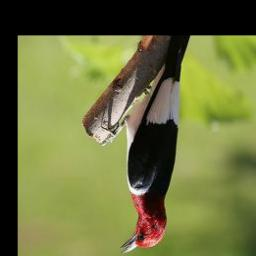Woodpecker: (115, 36, 193, 256)
